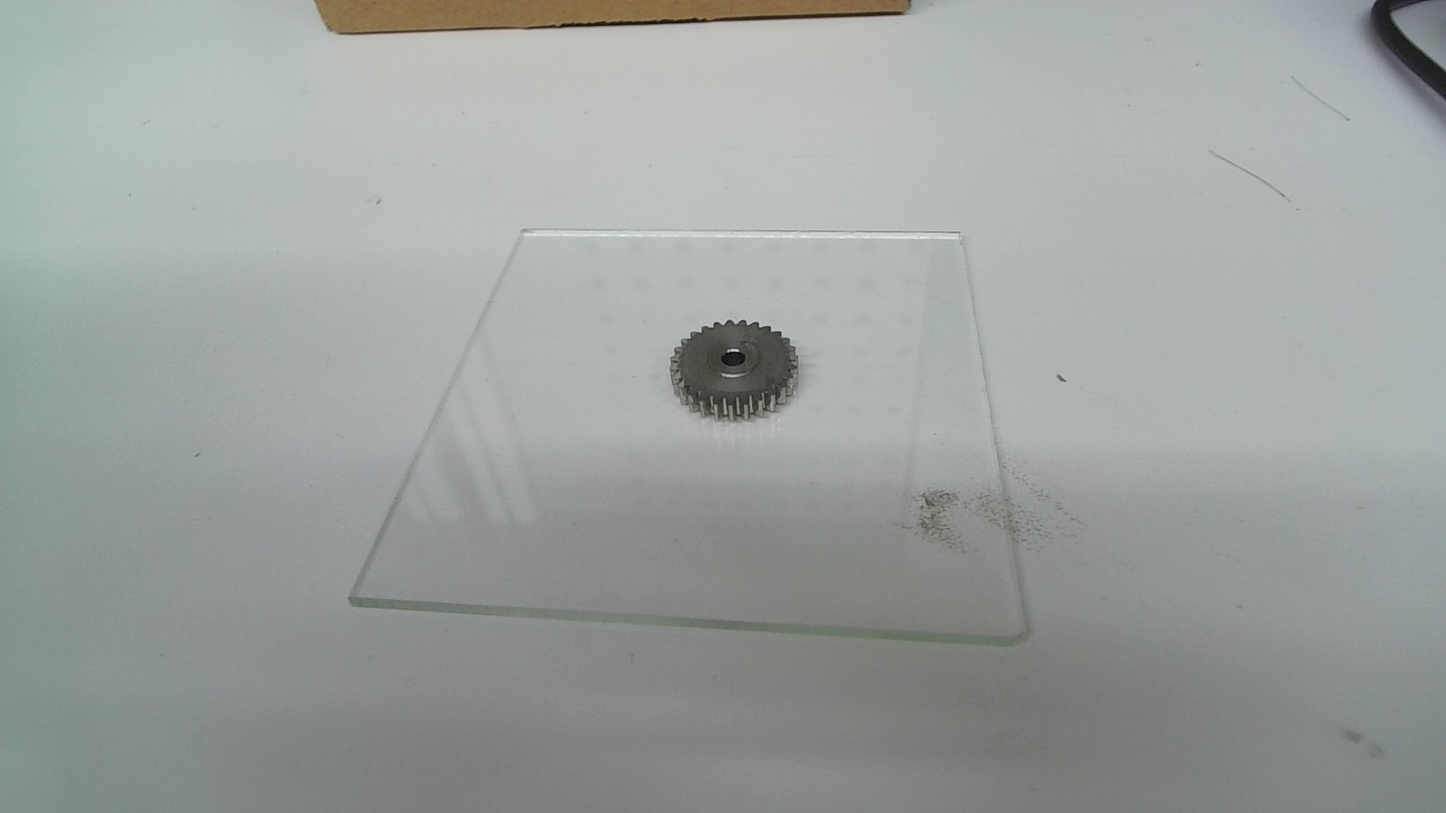gear: (668, 317, 801, 422)
